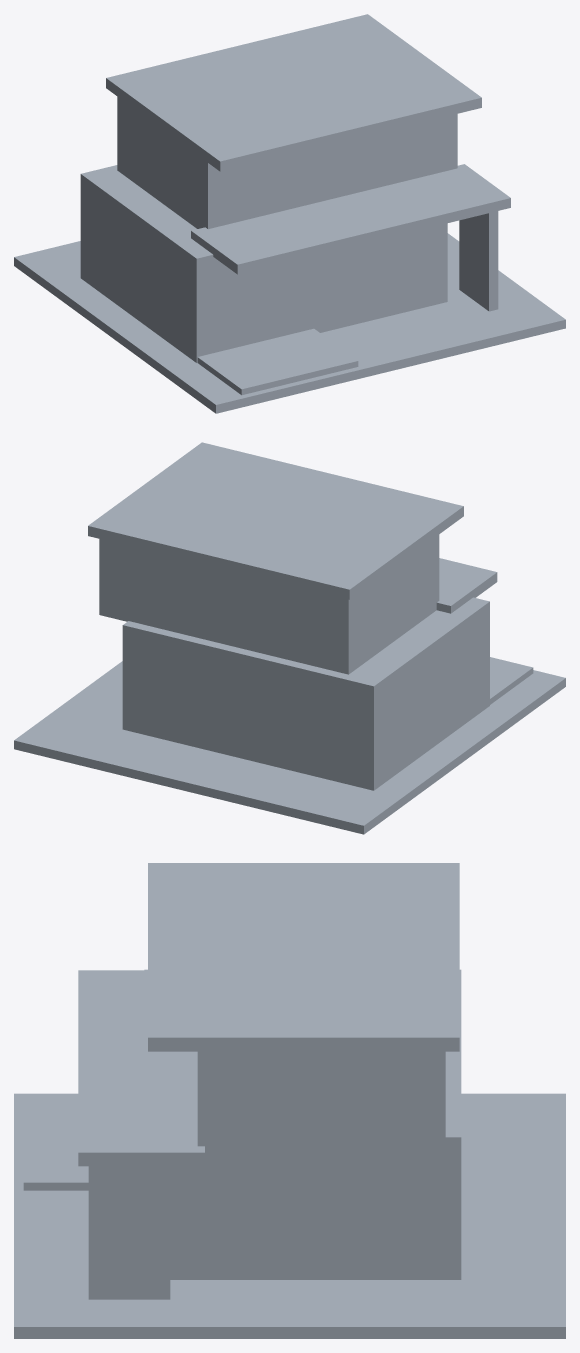
Rendered from terrace.glb.
The picture shows the model from 3 angles, top to bottom: view 1: azimuth 30°, elevation 25°; view 2: azimuth 150°, elevation 25°; view 3: azimuth 270°, elevation 25°; orthographic projection. The views are drawn at different scales.
Parts seen in each view (by area): view 1: terrace-slate-2, terrace-plaster-4, terrace-stone-1, terrace-plaster-3, terrace-stone-5, terrace-slate-6, terrace-plaster-7; view 2: terrace-slate-2, terrace-plaster-4, terrace-plaster-3, terrace-stone-1, terrace-stone-5, terrace-slate-6; view 3: terrace-stone-1, terrace-plaster-4, terrace-slate-2, terrace-plaster-3, terrace-stone-5, terrace-plaster-7, terrace-slate-6.
Part boxes in pixels (x1,y1,x2,y2): terrace-slate-2: (80,165,447,362); terrace-plaster-4: (106,14,481,171); terrace-stone-1: (14,233,565,413); terrace-plaster-3: (117,96,457,229); terrace-stone-5: (191,164,510,274); terrace-slate-6: (197,328,358,395); terrace-plaster-7: (459,211,498,311); terrace-slate-2: (122,597,489,790); terrace-plaster-4: (88,442,463,599); terrace-plaster-3: (99,534,439,674); terrace-stone-1: (14,661,565,834); terrace-stone-5: (436,558,497,613); terrace-slate-6: (490,657,533,704); terrace-stone-1: (14,1093,565,1338); terrace-plaster-4: (148,863,459,1051); terrace-slate-2: (144,969,461,1279); terrace-plaster-3: (197,1051,445,1158); terrace-stone-5: (78,970,204,1166); terrace-plaster-7: (88,1166,170,1299); terrace-slate-6: (23,1105,88,1190).
Bounding box in the file's own units: 10.8 × 6 × 10.8.
